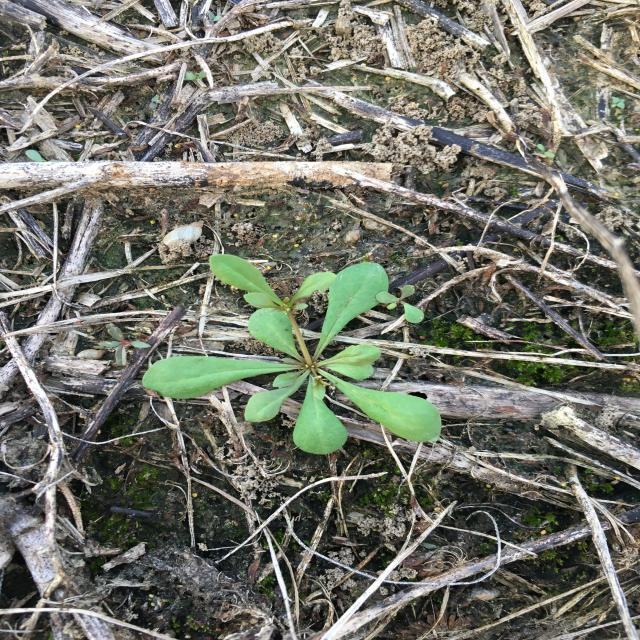Carpetweed: (140, 253, 443, 457)
